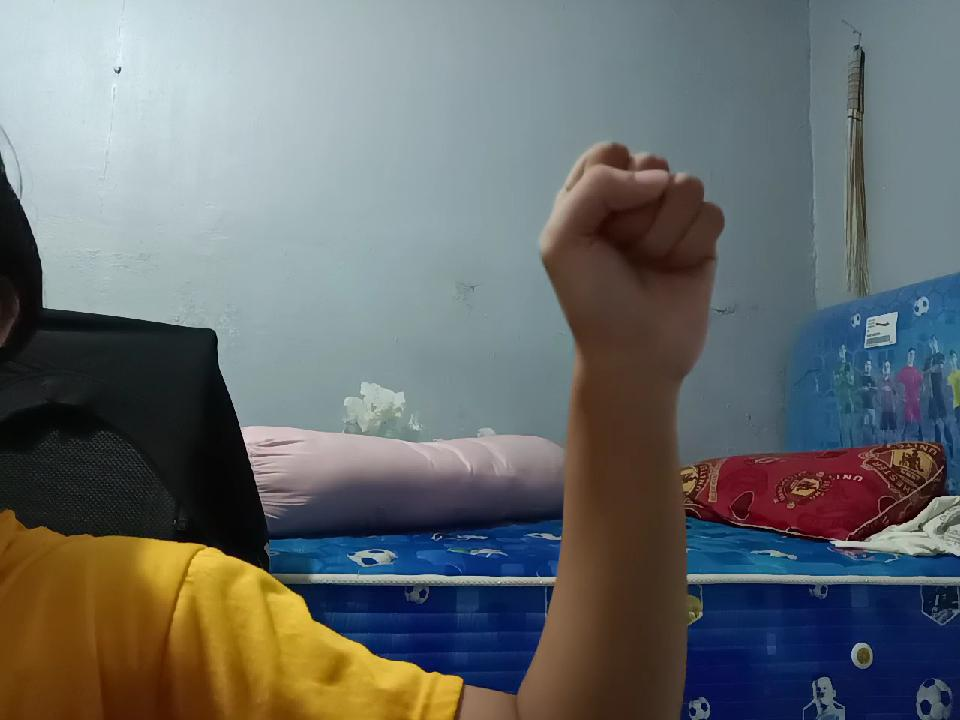rock: (524, 124, 724, 388)
